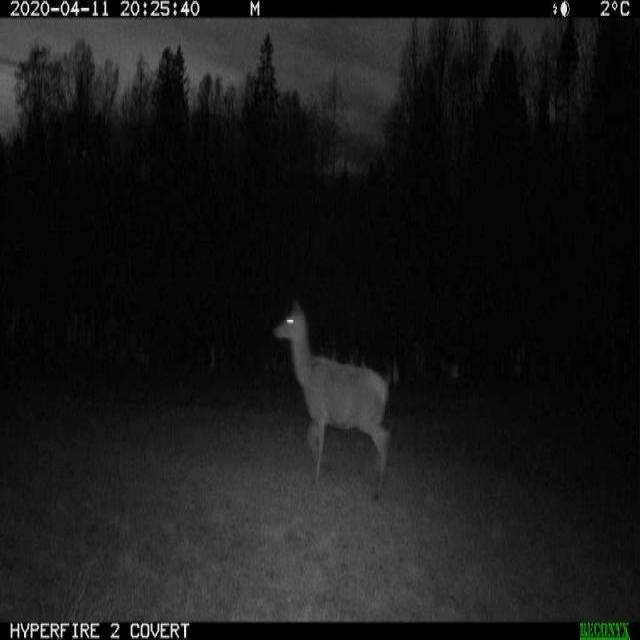deer: (255, 279, 398, 512)
